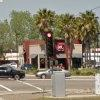Palm tree: (35, 3, 98, 50)
